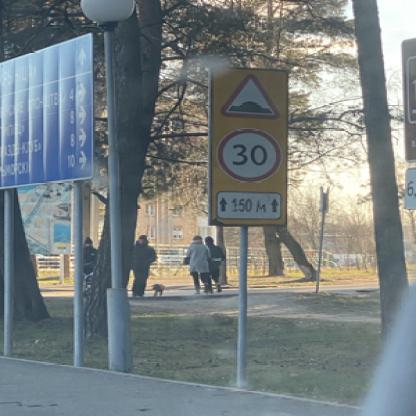speedlimit: (215, 127, 280, 181)
